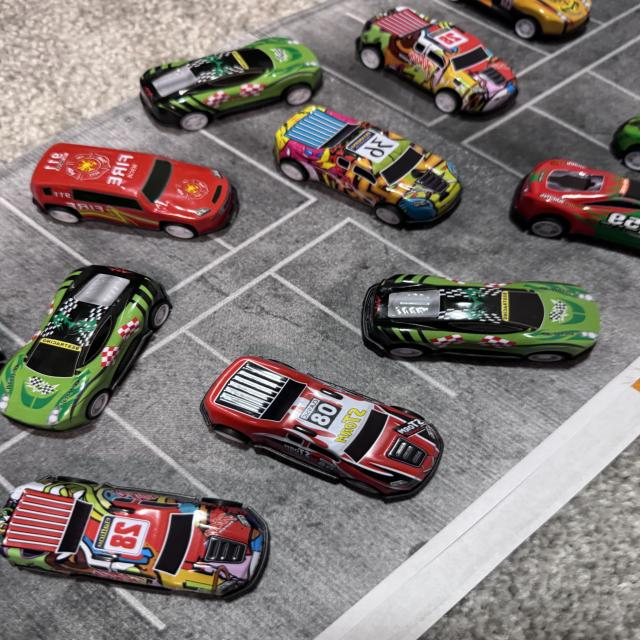car: (190, 331, 463, 539), (330, 247, 628, 410), (0, 254, 188, 482), (287, 110, 522, 259), (0, 458, 216, 612), (348, 4, 519, 146), (29, 152, 232, 237), (518, 131, 640, 263), (156, 22, 300, 126)
